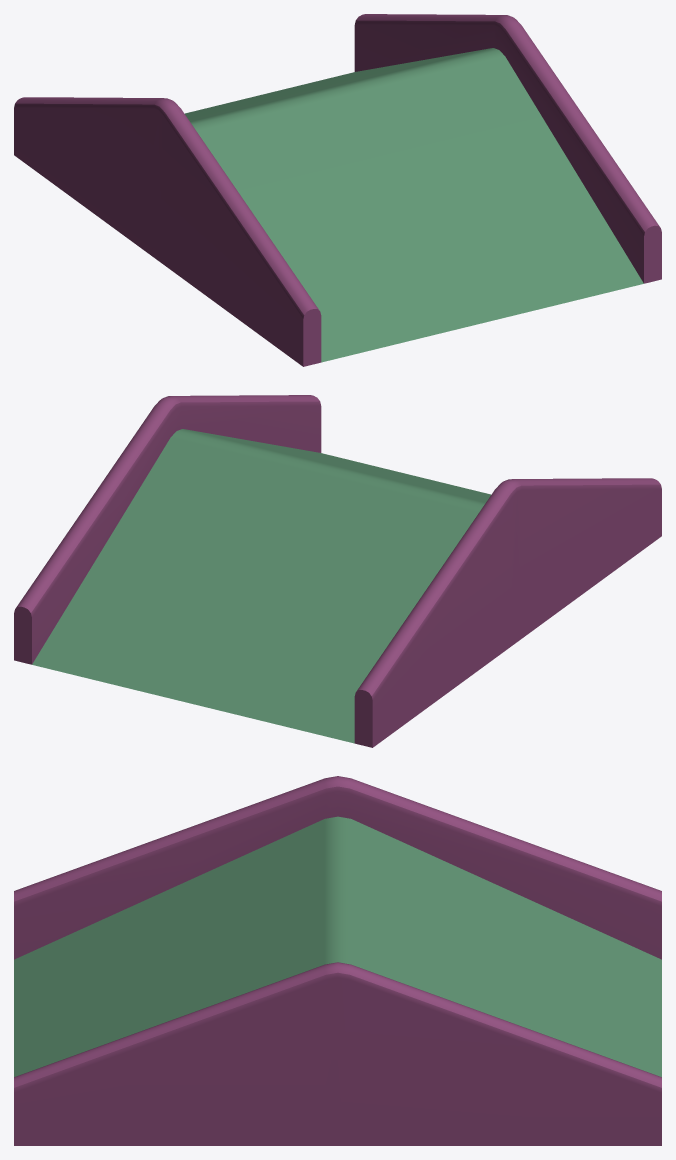
File: Ramp.fbx
3 renders of one model, top to bottom at view 1: azimuth 30°, elevation 25°; view 2: azimuth 150°, elevation 25°; view 3: azimuth 270°, elevation 25°, orthographic. The views are drawn at different scales.
Visible parts, largest first — view 1: pCube1; view 2: pCube1; view 3: pCube1.
Boxes of the visible parts, x1,y1,x2,y2 form: pCube1: (14, 14, 661, 366); pCube1: (14, 395, 661, 747); pCube1: (14, 776, 661, 1145).
Bounding box in the file's own units: 218 × 91.95 × 305.
